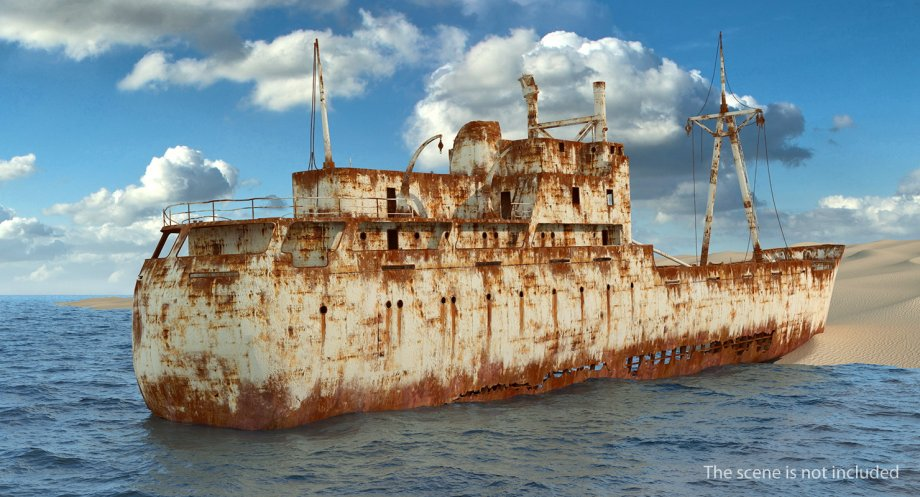rust: (380, 361, 612, 410), (140, 377, 282, 431), (361, 251, 655, 277), (340, 170, 502, 203), (139, 258, 262, 289), (624, 342, 732, 375), (693, 266, 829, 280)
